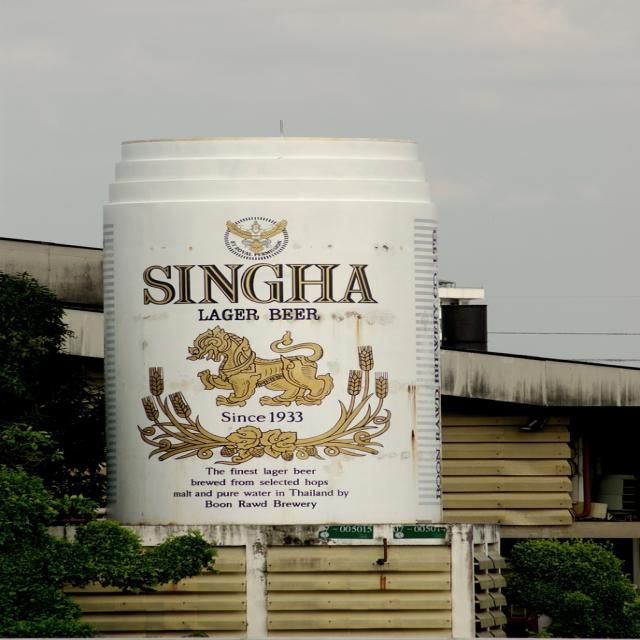singha: (111, 260, 398, 469)
